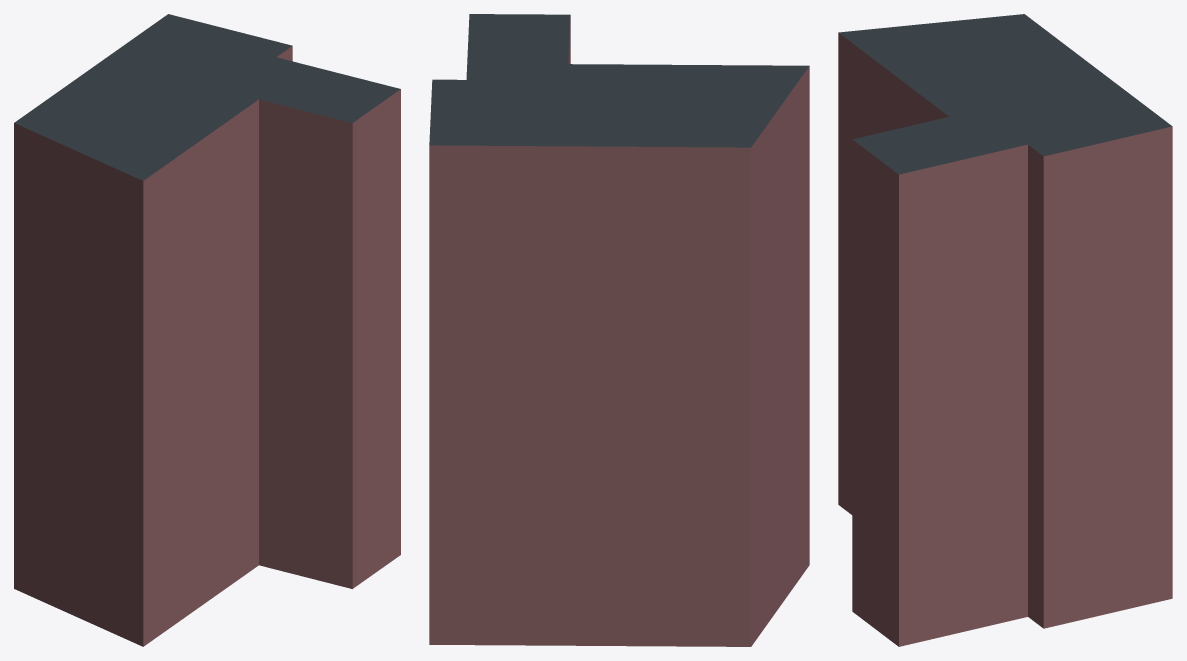
The model's file is nyc-1022563-0.glb.
3 renders of one model, left to right at view 1: azimuth 30°, elevation 25°; view 2: azimuth 150°, elevation 25°; view 3: azimuth 270°, elevation 25°, orthographic. The views are drawn at different scales.
Visible parts, largest first — view 1: nyc-1022563-0; view 2: nyc-1022563-0; view 3: nyc-1022563-0.
Part boxes in pixels (bbox=[...]): nyc-1022563-0: bbox=[14, 14, 400, 646]; nyc-1022563-0: bbox=[429, 14, 809, 646]; nyc-1022563-0: bbox=[838, 14, 1172, 646].
Size of the model in its own units: 77.38 by 106 by 68.03.
